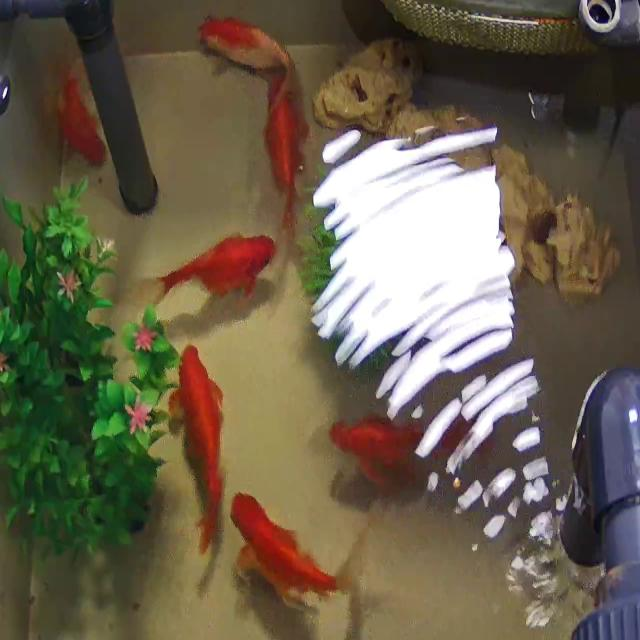fish: (216, 486, 368, 633), (173, 336, 247, 540), (125, 233, 288, 306), (323, 420, 505, 482), (193, 14, 322, 92), (40, 57, 112, 166), (262, 82, 319, 213)
